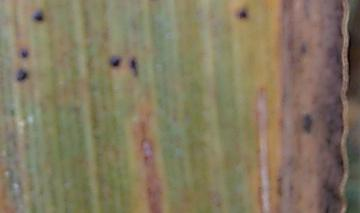tarspot: (126, 54, 141, 79), (301, 111, 313, 137), (107, 54, 123, 71), (29, 9, 45, 24), (14, 67, 28, 83), (234, 9, 251, 21), (298, 40, 307, 54), (18, 48, 28, 59), (322, 203, 331, 213)
